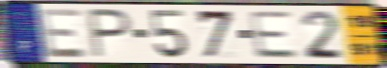2: (299, 9, 345, 61)
5: (148, 8, 189, 60)
7: (196, 9, 236, 60)
E: (37, 7, 90, 59), (247, 9, 301, 60)
P: (86, 7, 135, 60)
